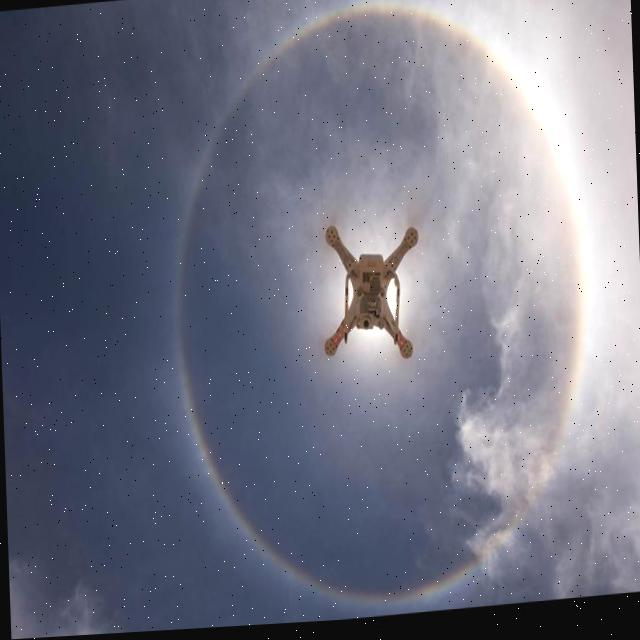drone: (318, 216, 422, 375)
